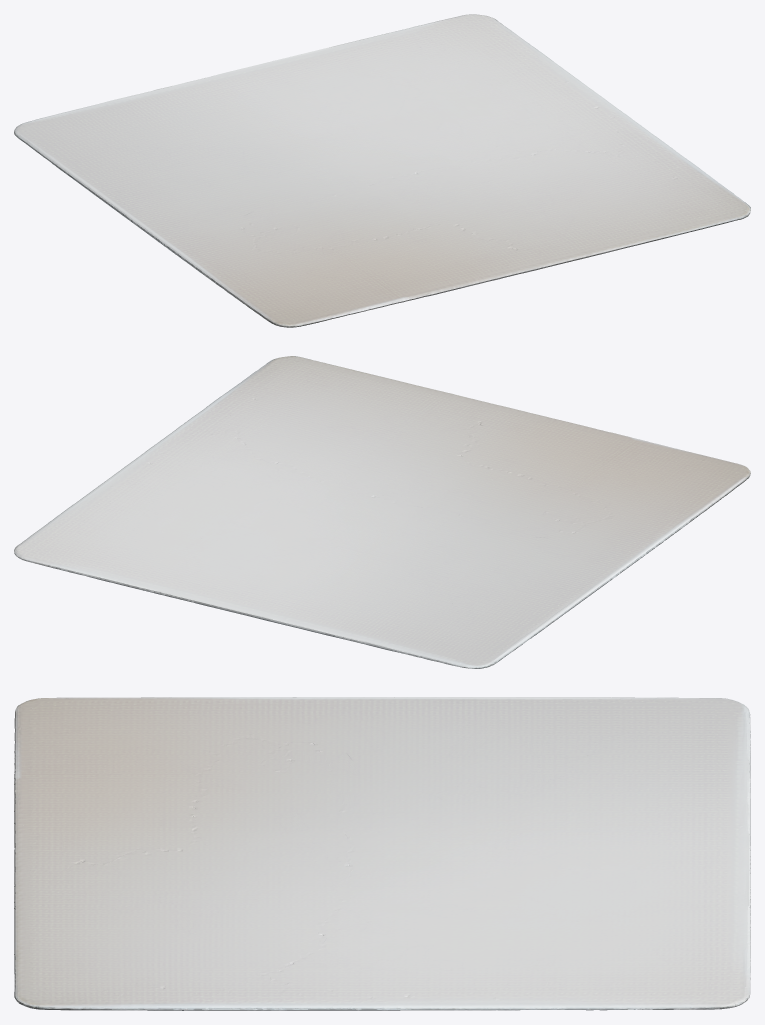
3 renders of one model, top to bottom at view 1: azimuth 30°, elevation 25°; view 2: azimuth 150°, elevation 25°; view 3: azimuth 270°, elevation 25°, orthographic. The views are drawn at different scales.
Visible parts, largest first — view 1: world; view 2: world; view 3: world.
Boxes of the visible parts, bbox=[...] form: world: bbox=[14, 14, 750, 327]; world: bbox=[14, 356, 750, 668]; world: bbox=[14, 697, 750, 1010].
Bounding box in the file's own units: 1 × 0.00816 × 1.
1 material, 1 textured.
